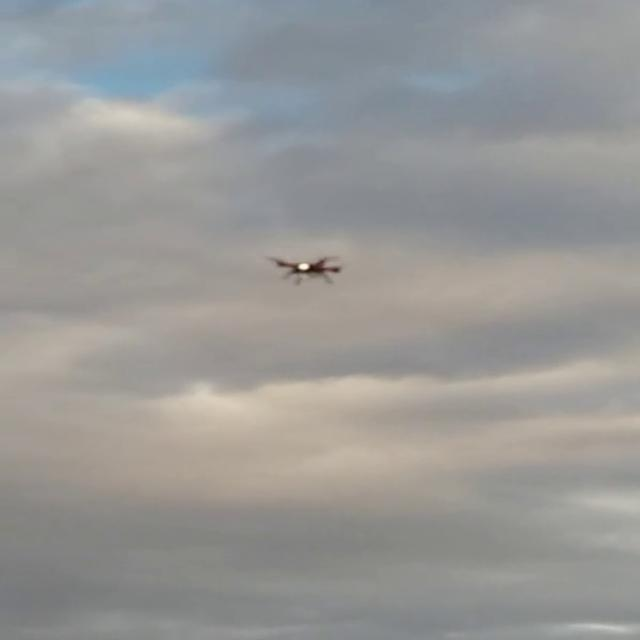drone: (264, 248, 350, 290)
